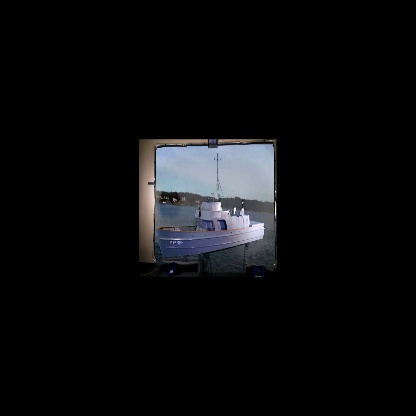YP689: (156, 154, 265, 259)
